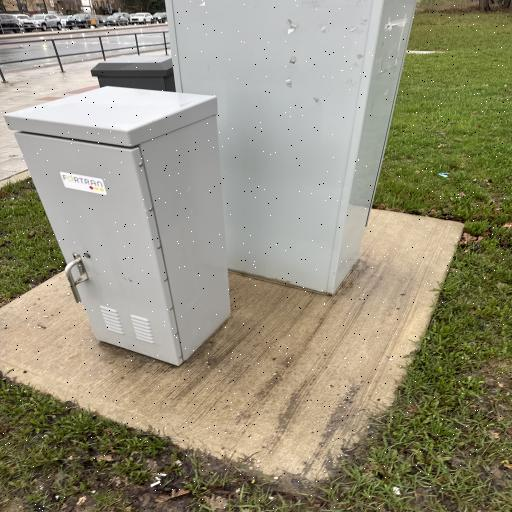Electrical Box: (164, 1, 421, 294), (4, 86, 233, 366), (90, 56, 185, 82)
